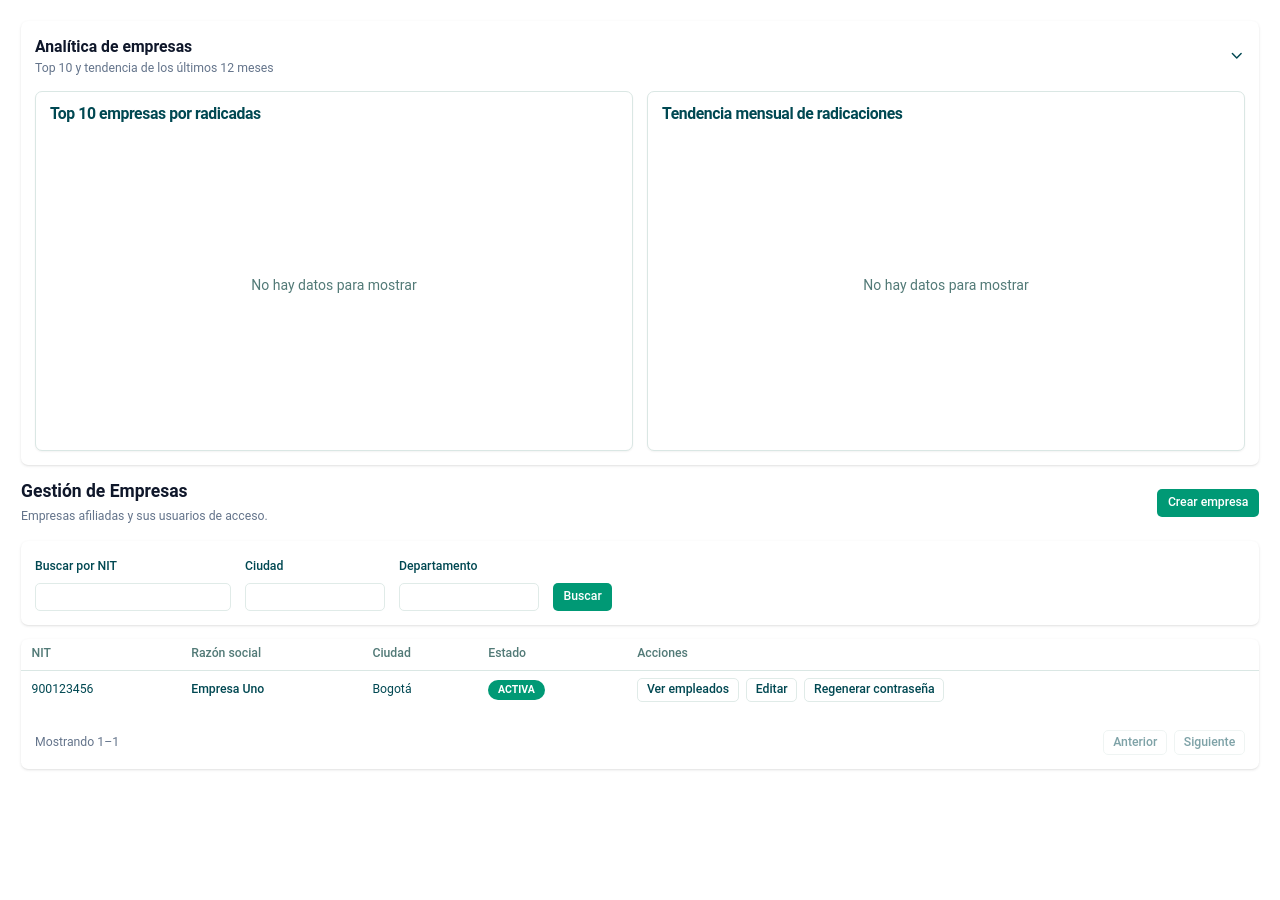
Test case: EmpresasPage › creating an empresa shows the password reveal dialog with the generated credentials
Expected: the text "Empresa Uno" is shown, 181,670 -> 362,709
Click the button "Crear empresa".
click(1208, 503)  # box 1157,489 -> 1259,517
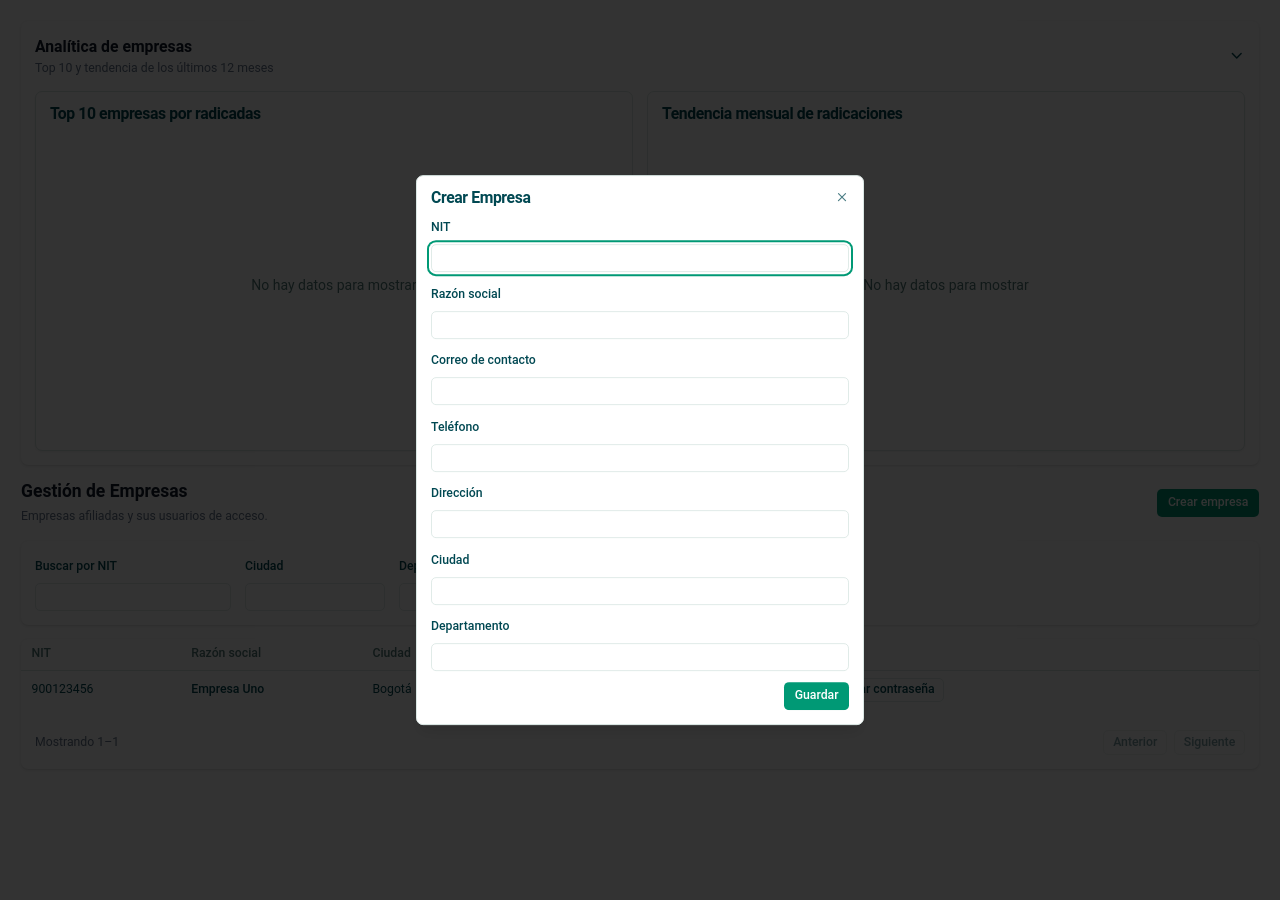
Type "900555555" into the field labelled "NIT".
click(640, 258); type("900555555")  # box 431,244 -> 849,272
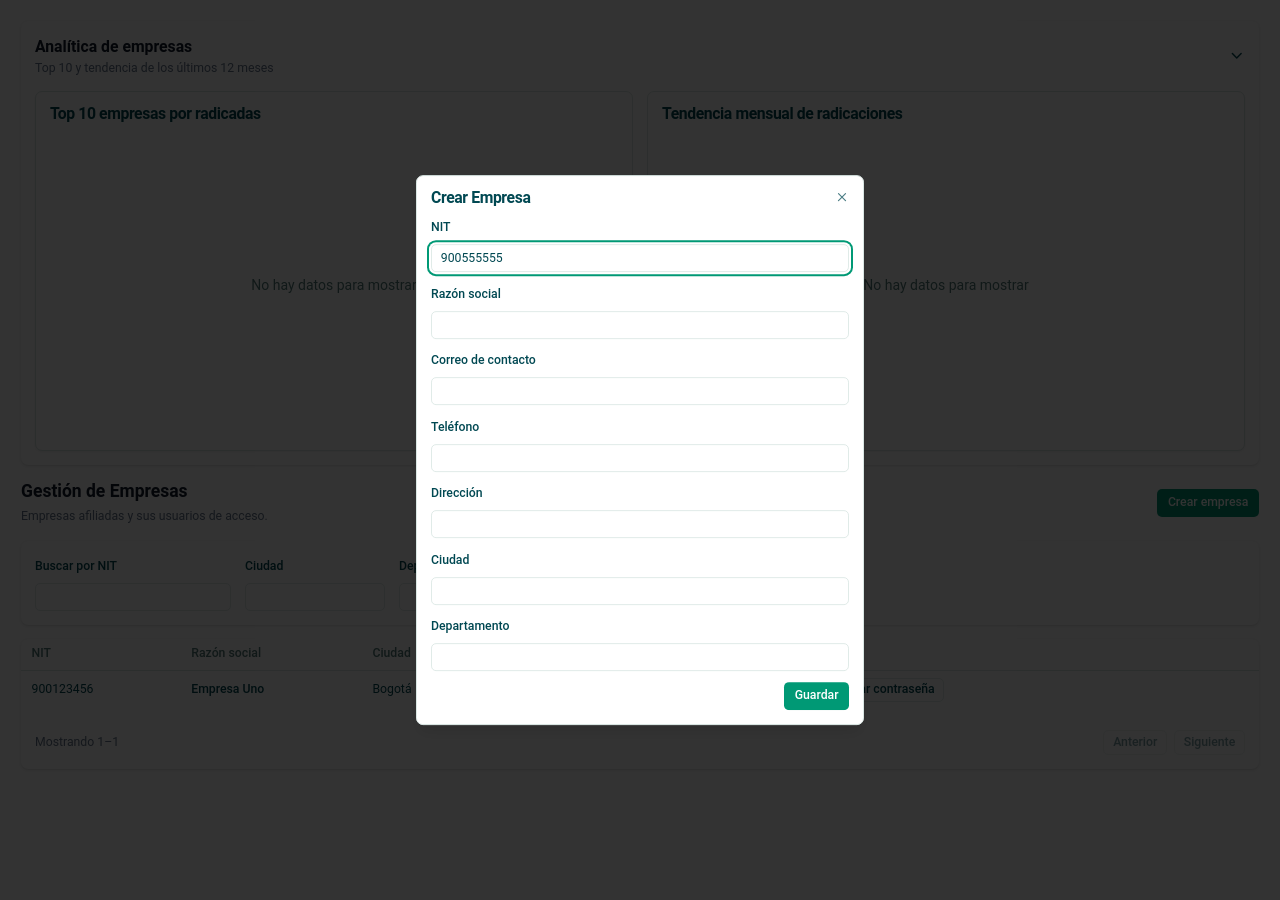
Type "Nueva SAS" into the field labelled "Razón social".
click(640, 325); type("Nueva SAS")  # box 431,311 -> 849,339
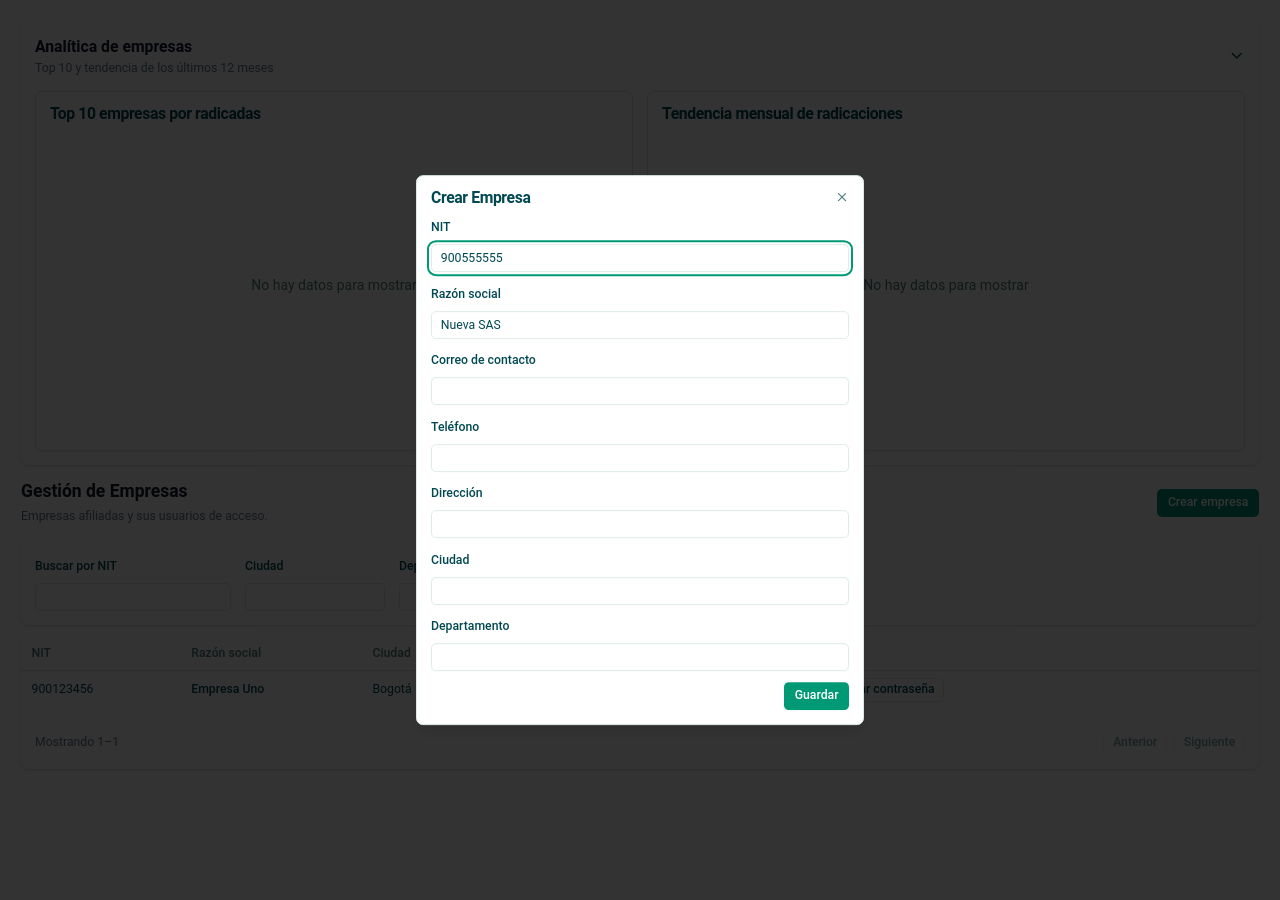
Type "nueva@empresa.com" into the field labelled "Correo de contacto".
click(640, 391); type("nueva@empresa.com")  # box 431,377 -> 849,405
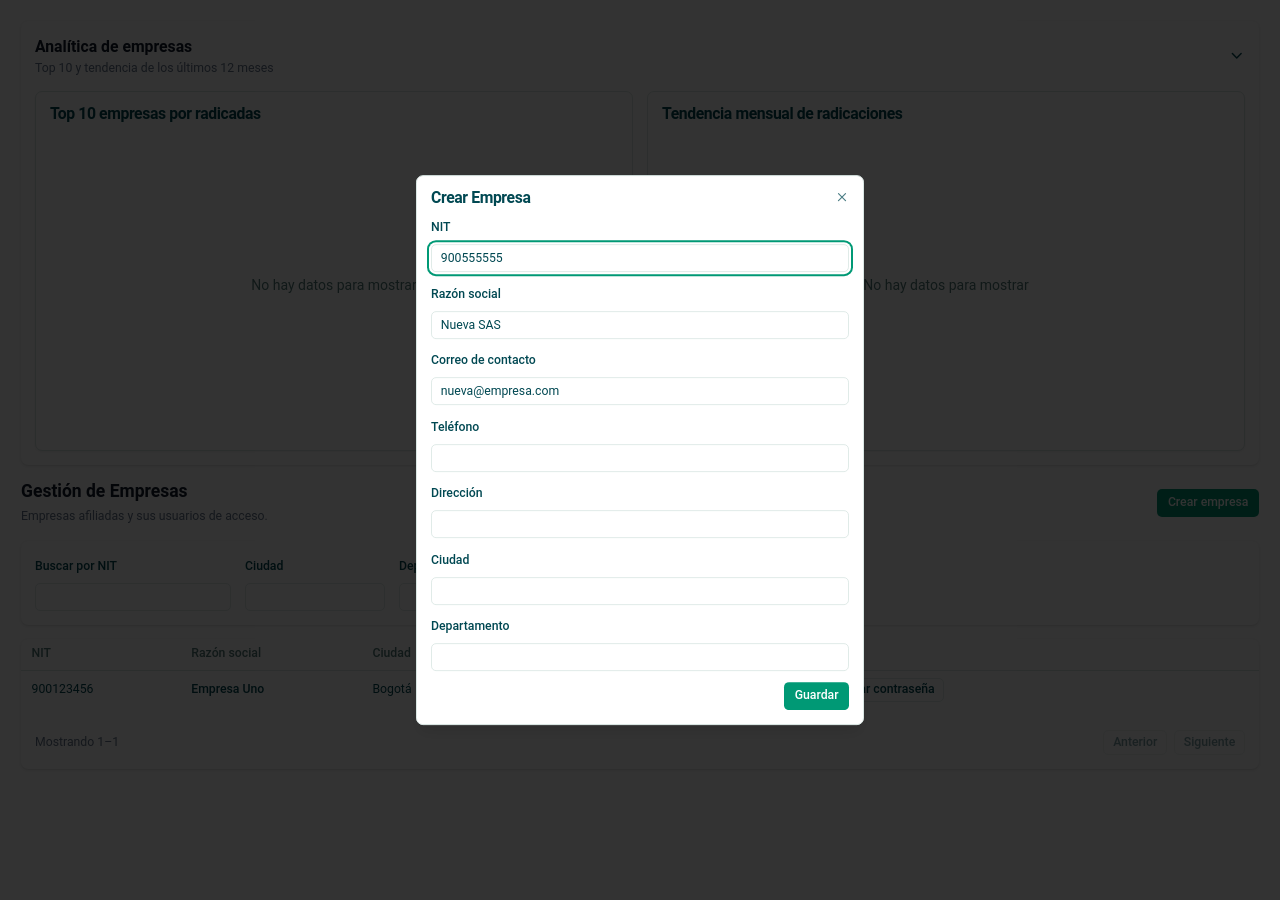
Click the button "Guardar".
click(817, 696)  # box 784,682 -> 849,710
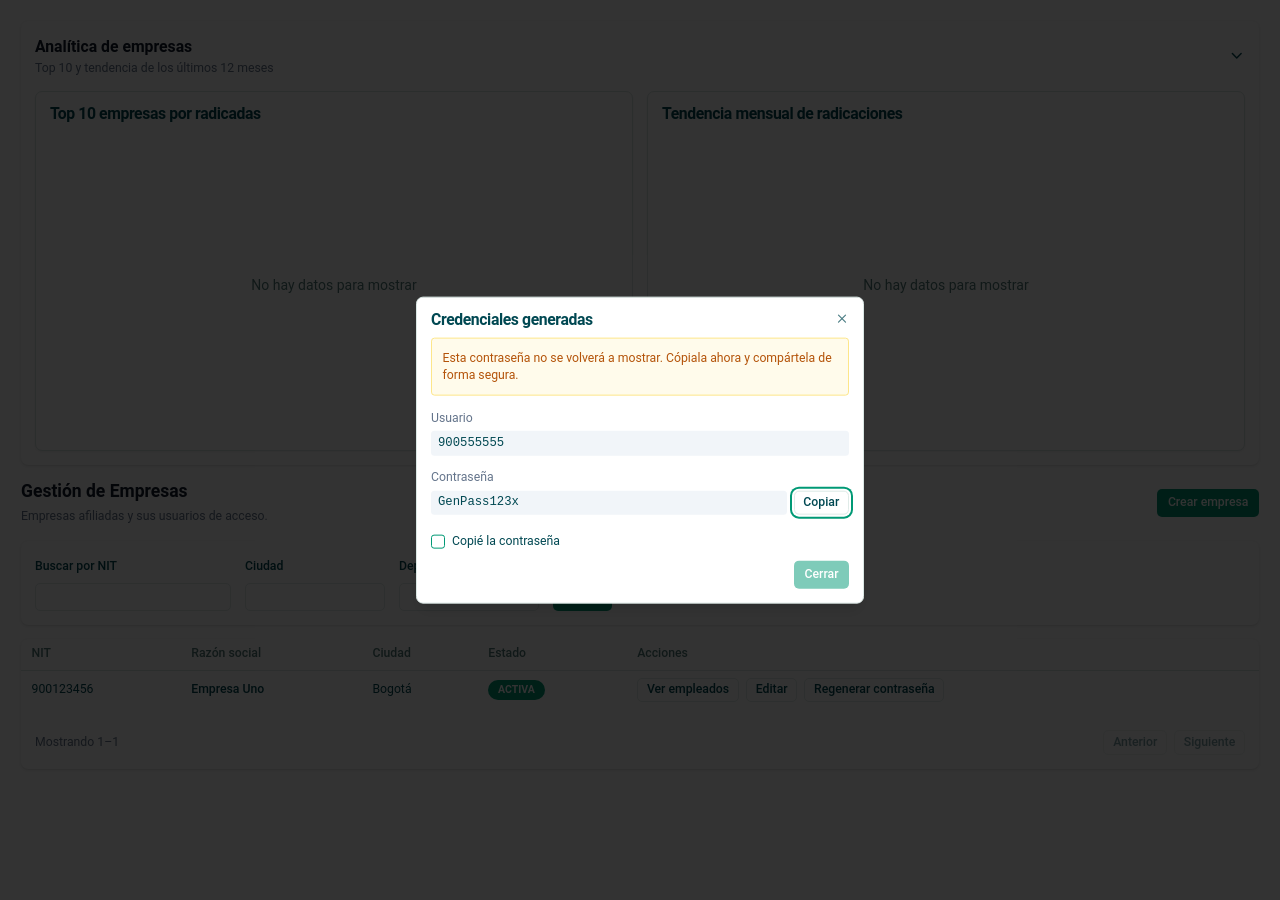
Now the text "GenPass123x" is shown, box 431,490 -> 786,515
